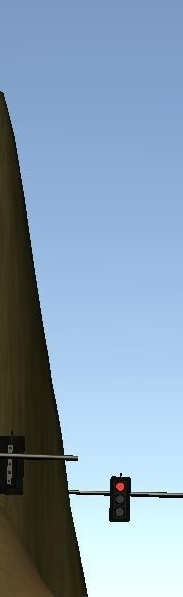Red: (110, 476, 130, 522)
